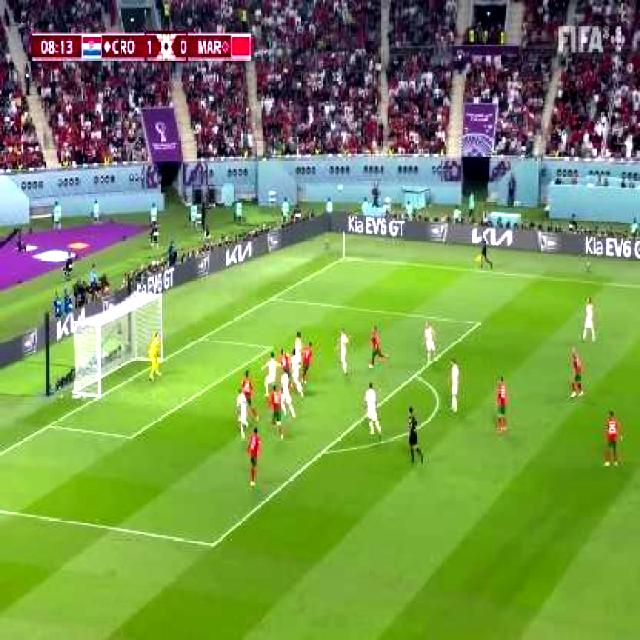bigarea_bottom_inner: (202, 530, 223, 558)
bigarea_top_inner: (469, 312, 486, 332)
bigarea_top_outter: (265, 288, 280, 306)
bottom_arc_area_intersection: (314, 439, 332, 463)
corner: (335, 249, 351, 263)
smallarea_bottom_inner: (120, 422, 140, 451)
smallarea_bottom_outter: (40, 412, 58, 437)
smallarea_top_inner: (262, 337, 278, 360)
smallarea_top_outter: (194, 328, 209, 348)
top_arc_area_intersection: (408, 365, 422, 383)
